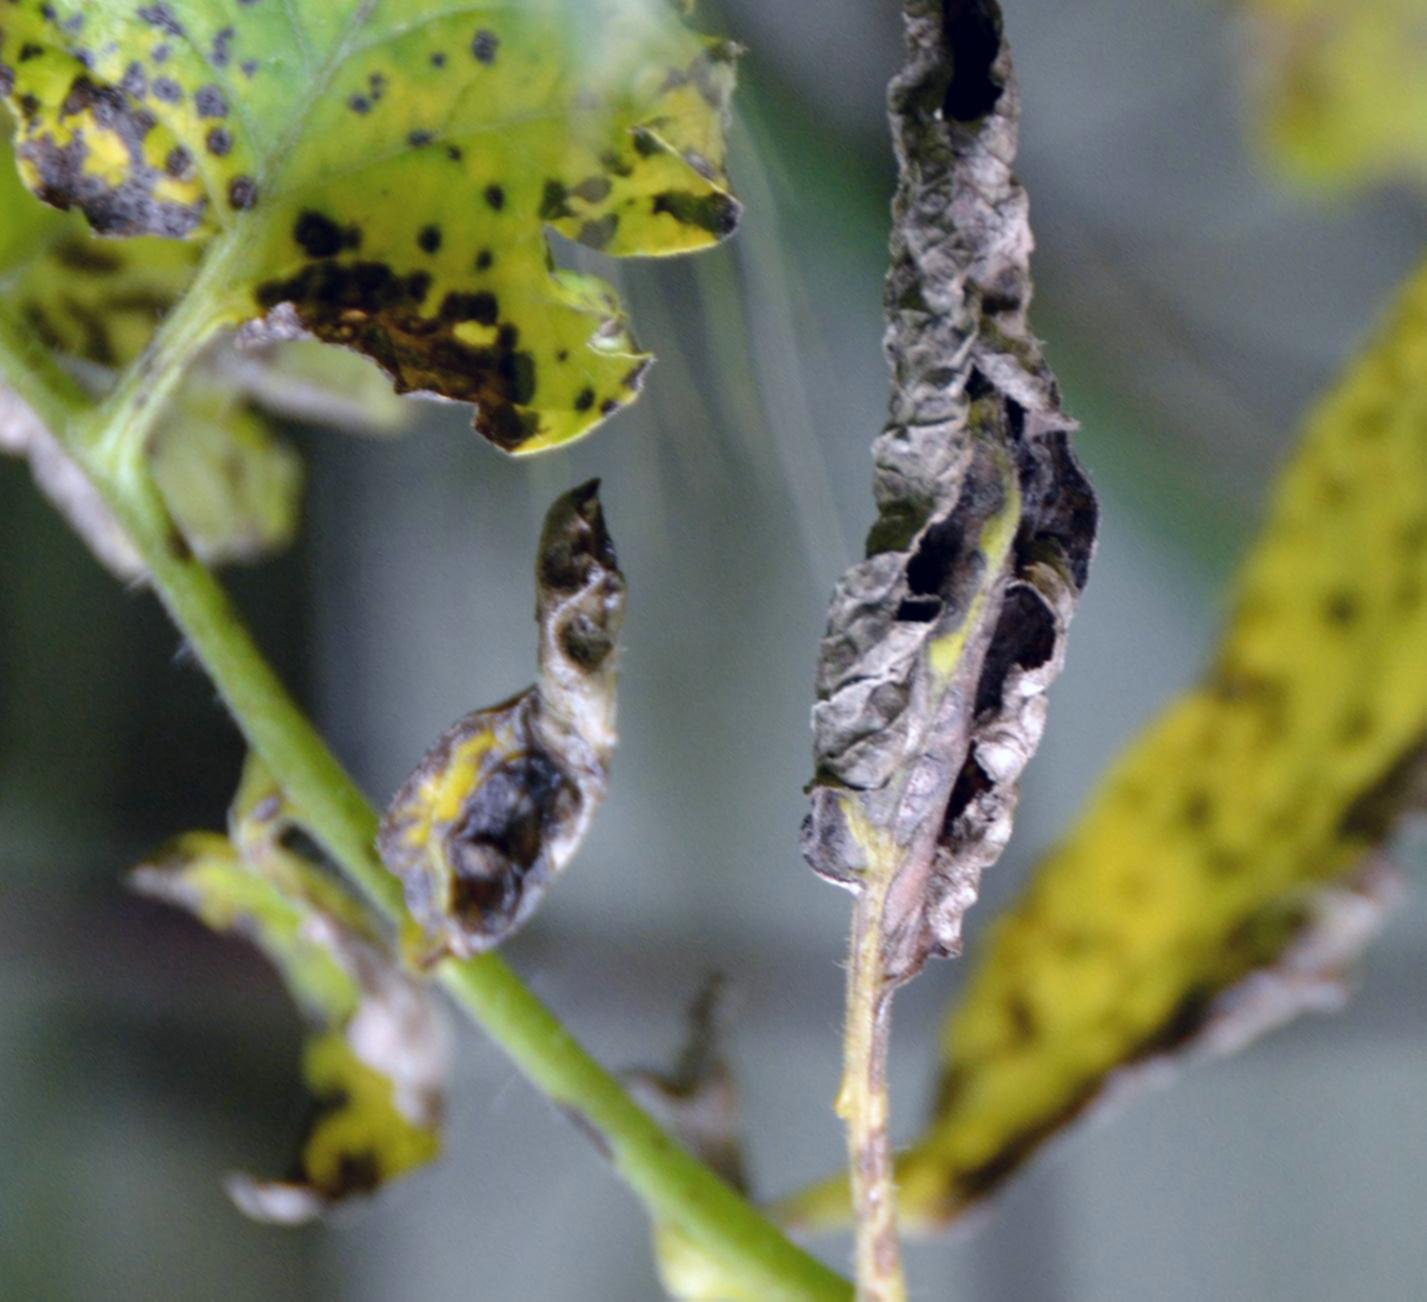Tomato Septoria leaf spot: (925, 65, 1427, 1225), (0, 0, 894, 444)
